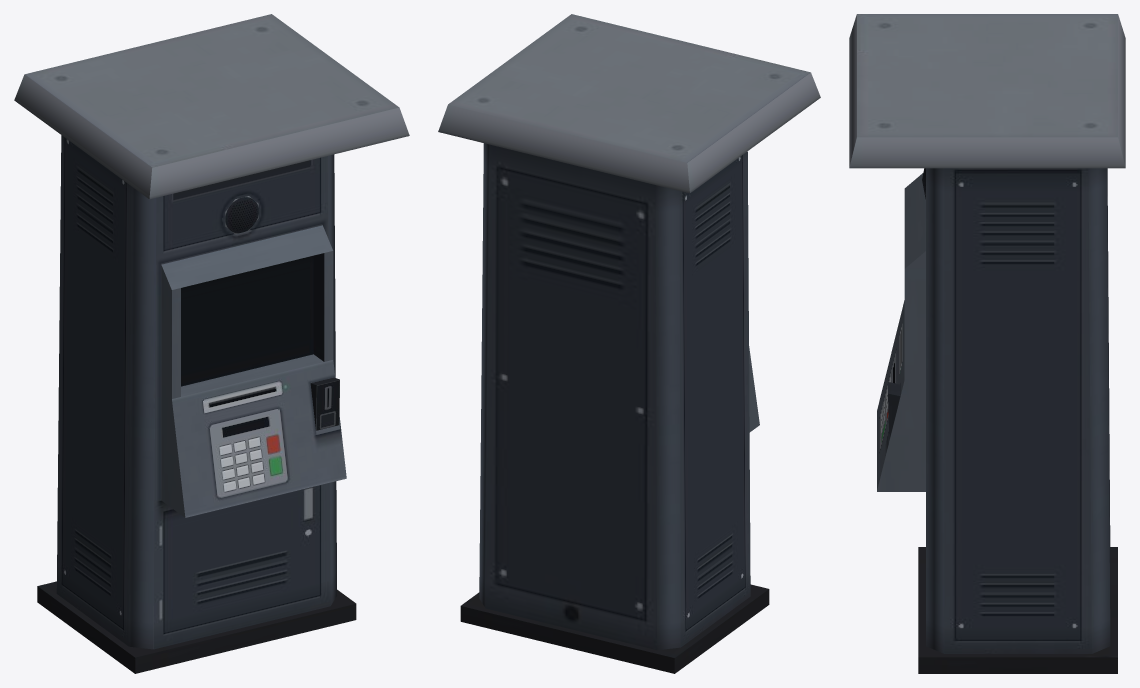
The model's file is yard-scale-kiosk-body.glb.
3 views of the same model, side by side, from view 1: azimuth 30°, elevation 25°; view 2: azimuth 150°, elevation 25°; view 3: azimuth 270°, elevation 25° (orthographic). The views are drawn at different scales.
Parts seen in each view (by area): view 1: Yard-scale-kiosk-bodyBody; view 2: Yard-scale-kiosk-bodyBody; view 3: Yard-scale-kiosk-bodyBody.
Part boxes in pixels (bbox=[...]): Yard-scale-kiosk-bodyBody: bbox=[14, 14, 409, 673]; Yard-scale-kiosk-bodyBody: bbox=[438, 14, 820, 673]; Yard-scale-kiosk-bodyBody: bbox=[849, 14, 1125, 673].
Bounding box in the file's own units: 1 × 1.95 × 0.9.
Materials: 1 (1 with a texture image).
